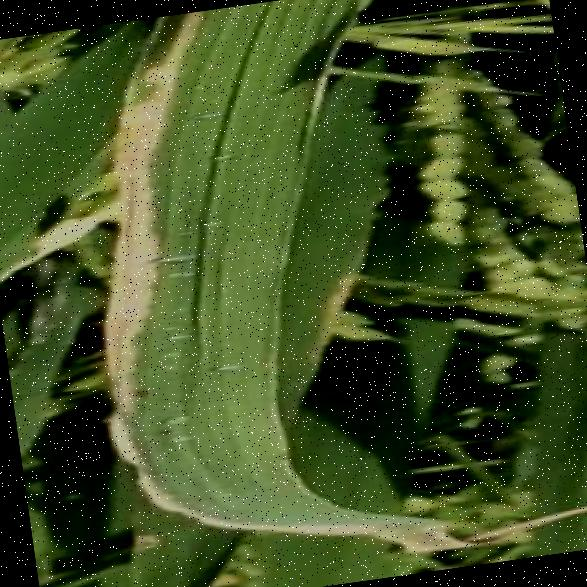Bacteria_Leaf_Blight: (64, 90, 314, 535)
